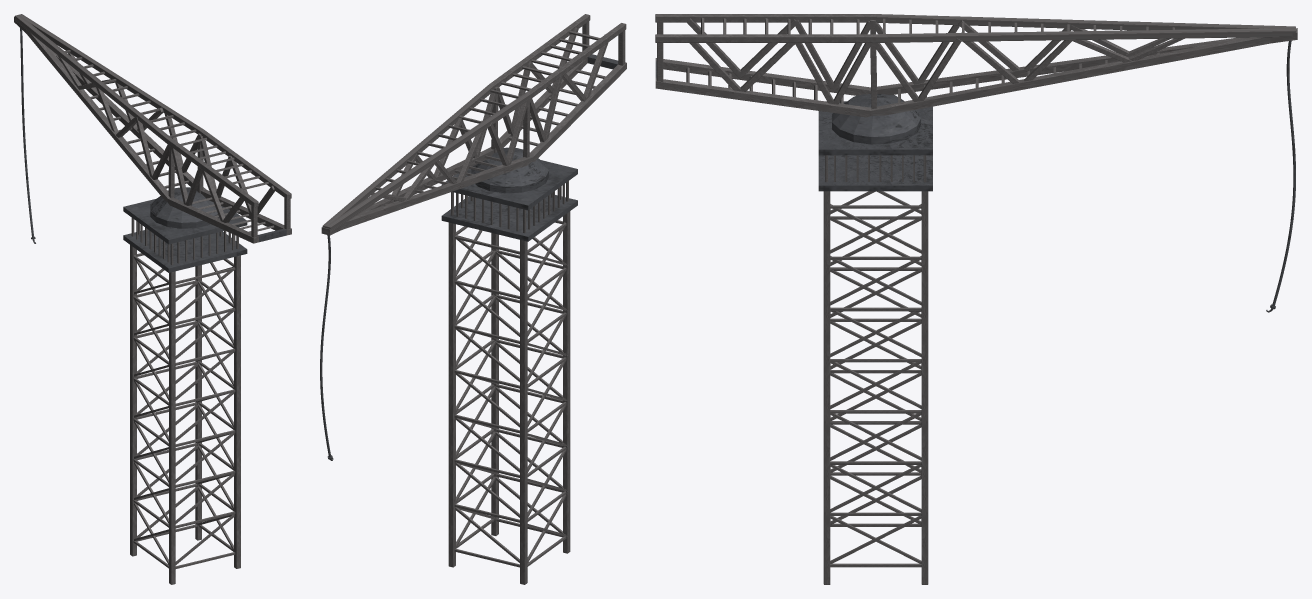
File: Cot cao.fbx
The picture shows the model from 3 angles, left to right: view 1: azimuth 30°, elevation 25°; view 2: azimuth 150°, elevation 25°; view 3: azimuth 270°, elevation 25°; orthographic projection. The views are drawn at different scales.
Parts seen in each view (by area): view 1: Cylinder; view 2: Cylinder; view 3: Cylinder.
Boxes of the visible parts, bbox=[...] form: Cylinder: bbox=[14, 14, 291, 584]; Cylinder: bbox=[320, 14, 626, 584]; Cylinder: bbox=[655, 14, 1297, 584].
Bounding box in the file's own units: 2429 × 12610 × 13631.
